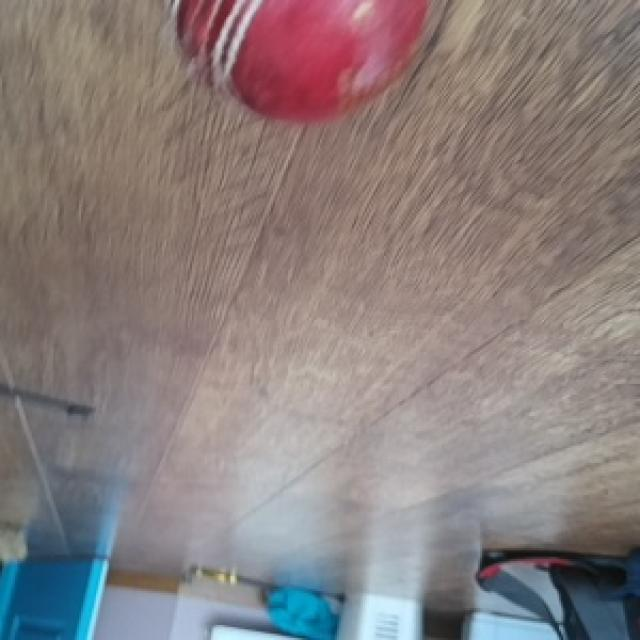ball: (175, 0, 450, 128)
